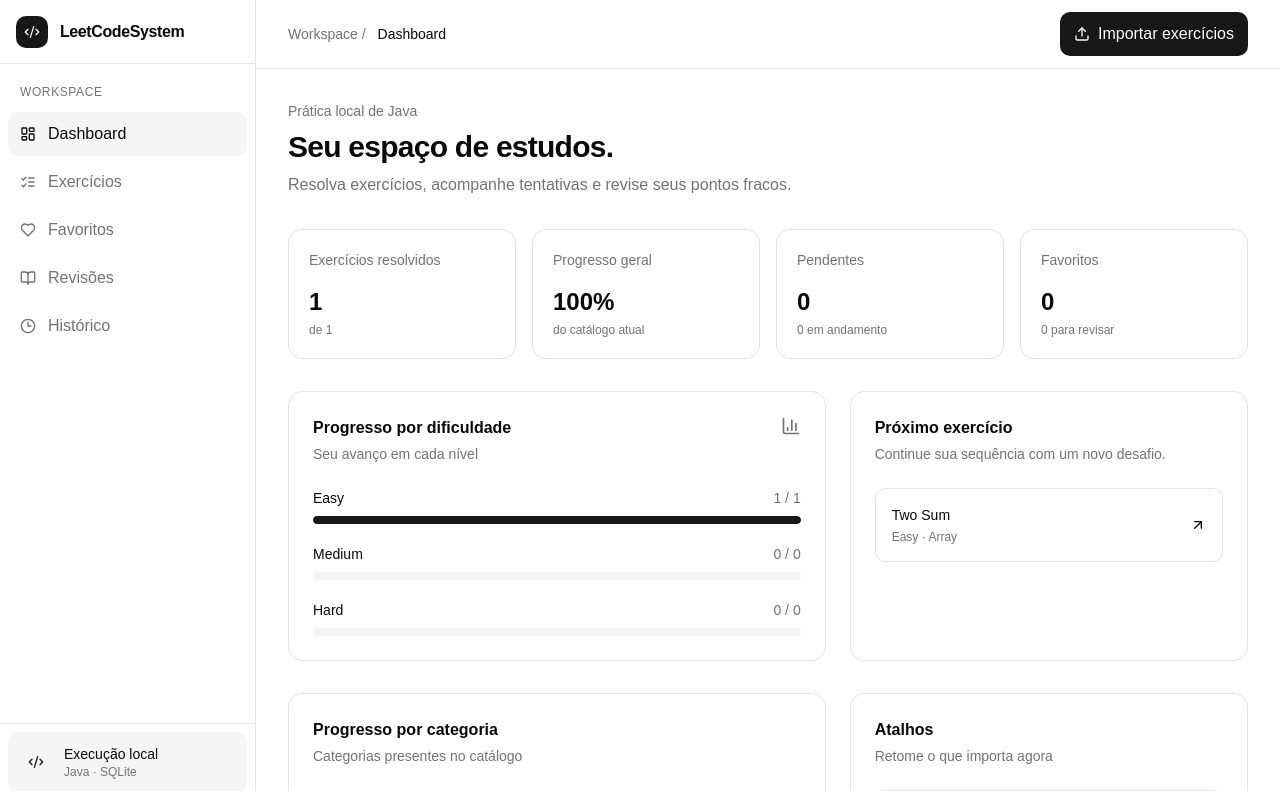
Test: Judge integration in the solver › blocks duplicate progress mutations while saving and preserves state after a failure
This screenshot has width=1280, height=791.
Later steps or results of the test are not shown.
Expected: the heading "Seu espaço de estudos." is shown, [288,130,613,163]
Step 1. Click the button "Exercícios" → (128, 182), box [8,160,247,204]
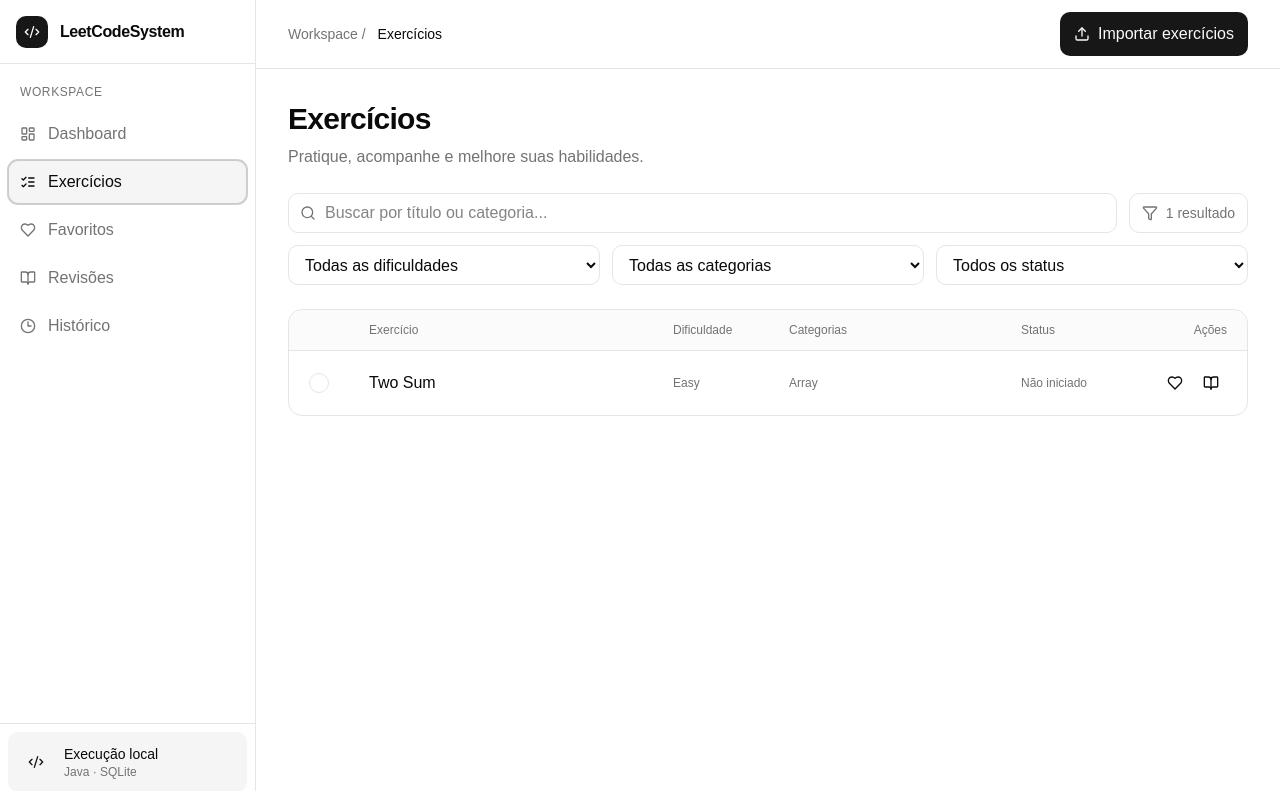
Step 2. Click the button named "Adicionar aos favoritos" → (1175, 383), box [1159,367,1191,399]
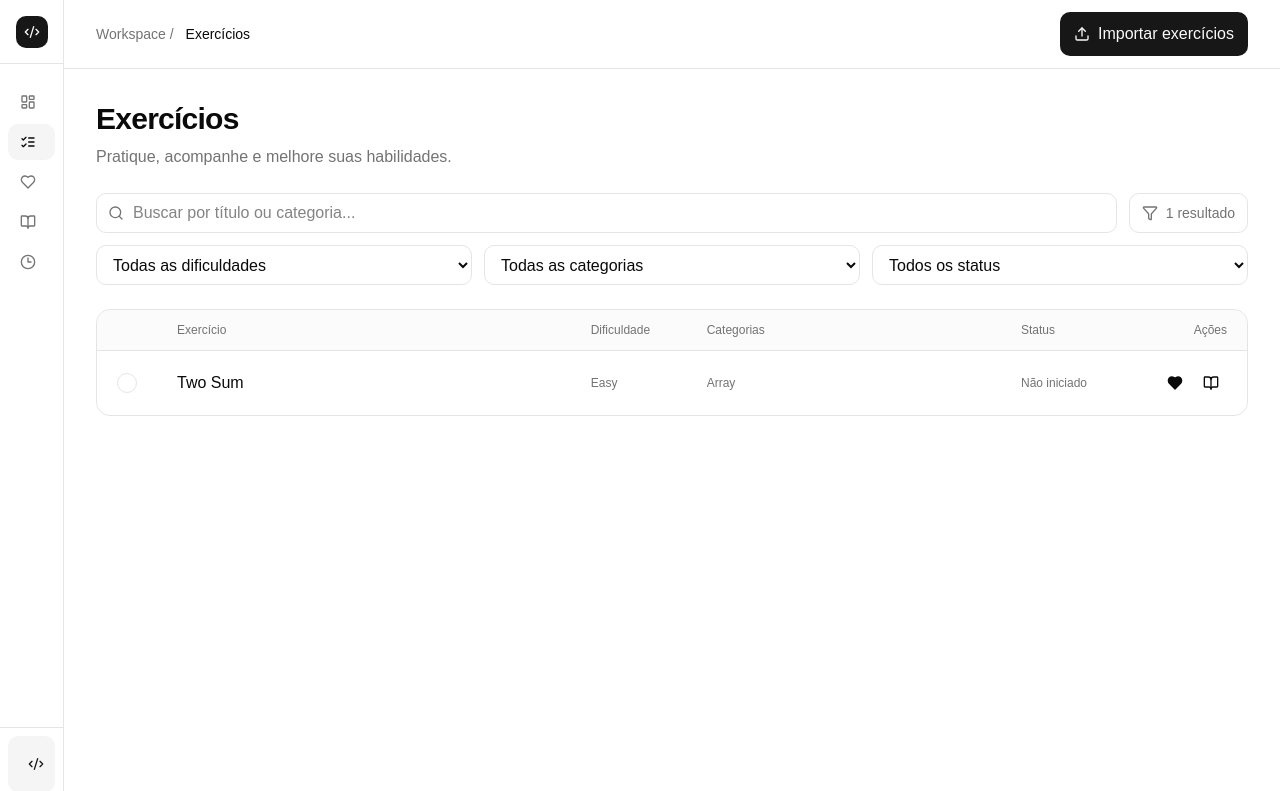
Now the button named "Remover dos favoritos" is enabled
Step 3. Click the button named "Remover dos favoritos" → (1175, 383), box [1159,367,1191,399]
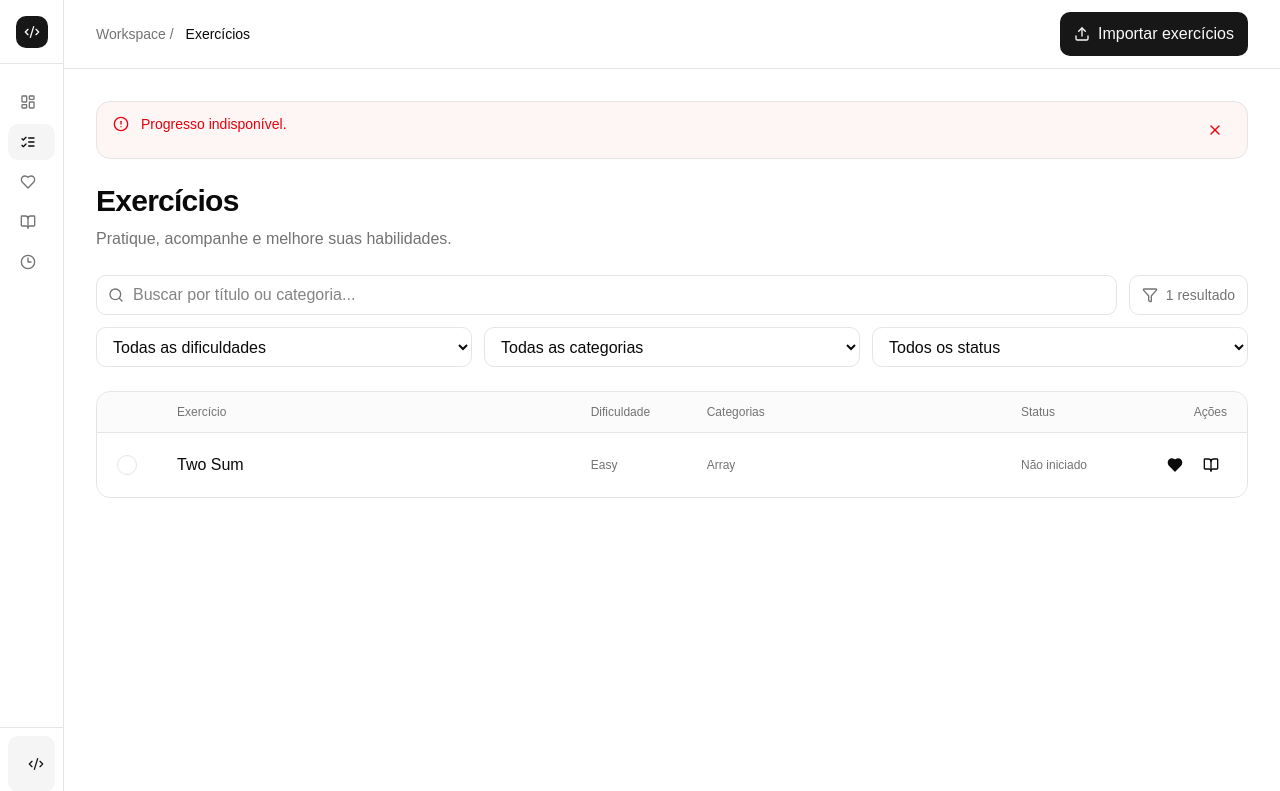
Now the button named "Remover dos favoritos" is shown, box [1159,449,1191,481]
Now the message reads "Progresso indisponível.", box [141,116,286,132]
